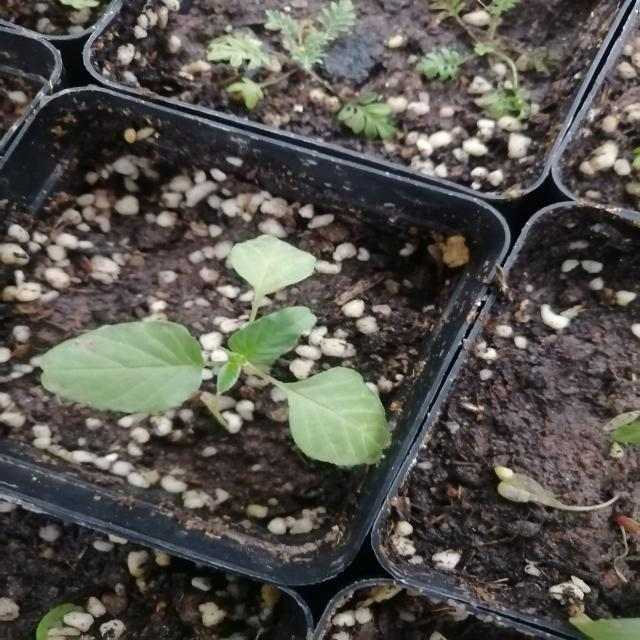pigweed: (53, 248, 400, 466)
